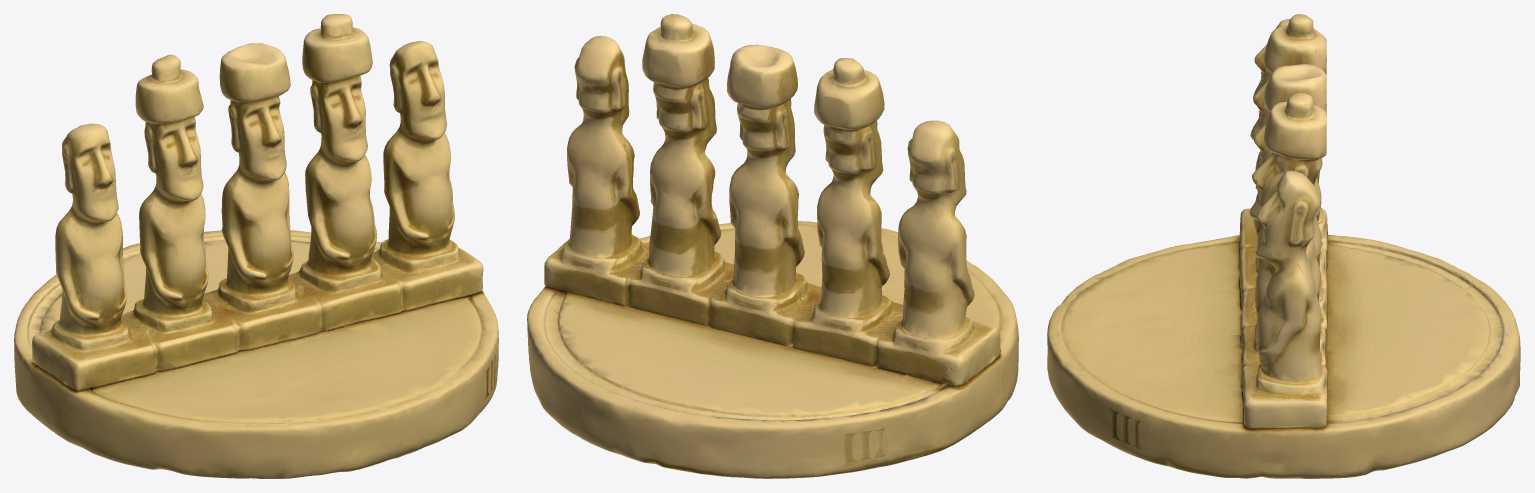
Rendered from easter_island_gold.glb.
3 views of the same model, side by side, from view 1: azimuth 30°, elevation 25°; view 2: azimuth 150°, elevation 25°; view 3: azimuth 270°, elevation 25° (orthographic). The views are drawn at different scales.
Parts seen in each view (by area): view 1: Mesh_0; view 2: Mesh_0; view 3: Mesh_0.
Part boxes in pixels (left/top/right/bottom): Mesh_0: left=14, top=14, right=498, bottom=478; Mesh_0: left=527, top=14, right=1018, bottom=478; Mesh_0: left=1047, top=14, right=1520, bottom=478.
Bounding box in the file's own units: 1.91 × 1.47 × 1.91.
Materials: 1 (1 with a texture image).
